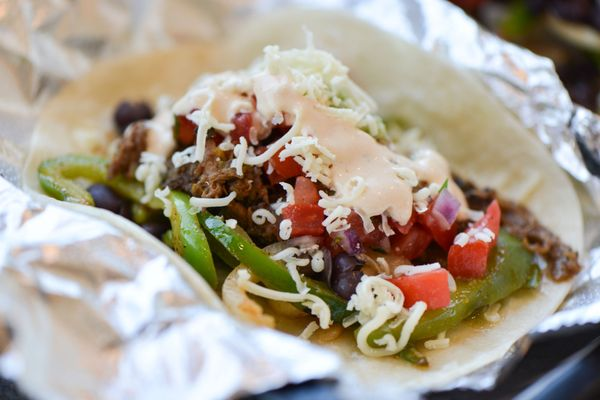soup: (11, 6, 581, 377)
